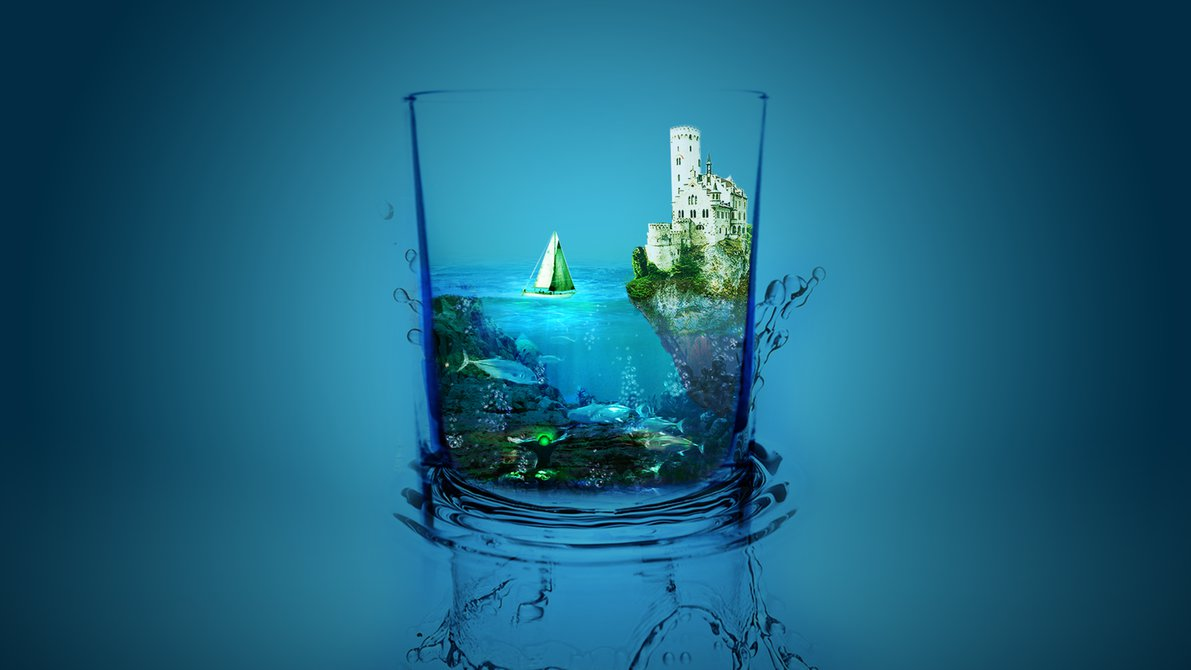glass of water: (422, 138, 747, 513)
